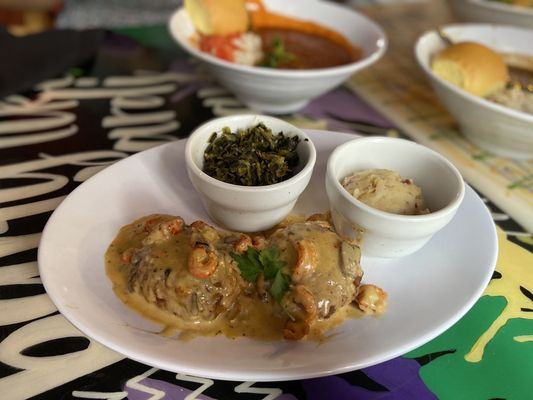sushi: (166, 0, 389, 115), (327, 136, 467, 260), (414, 22, 533, 162), (184, 113, 318, 234)
